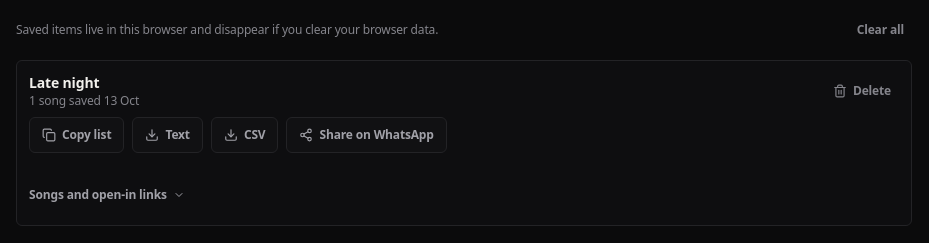
Test: SavedOnDevice › downloads the list as CSV with the file named after the title
The image size is (929, 243).
Click the button with aria-label "Download as CSV" at (245, 135), box [211,117,278,153]
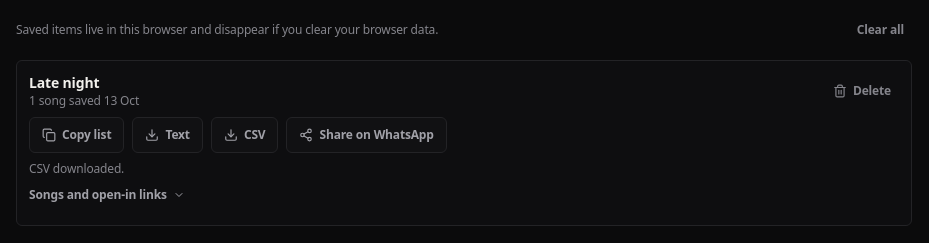
Result: the text "CSV downloaded." is shown at [29,160,124,177]
